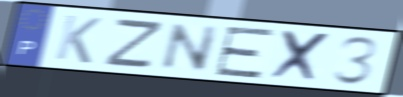3: (331, 35, 381, 87)
E: (211, 25, 279, 80)
K: (52, 13, 104, 66)
N: (157, 21, 223, 73)
X: (268, 28, 335, 85)
Z: (100, 18, 168, 71)
